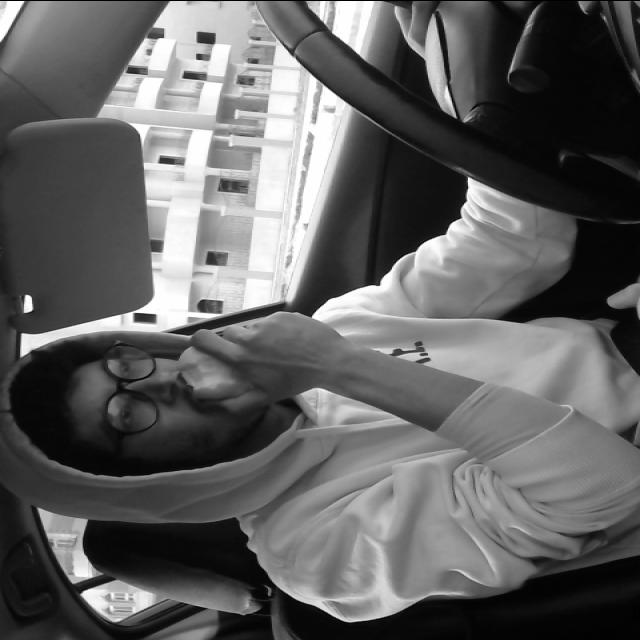eating: (176, 335, 262, 399)
